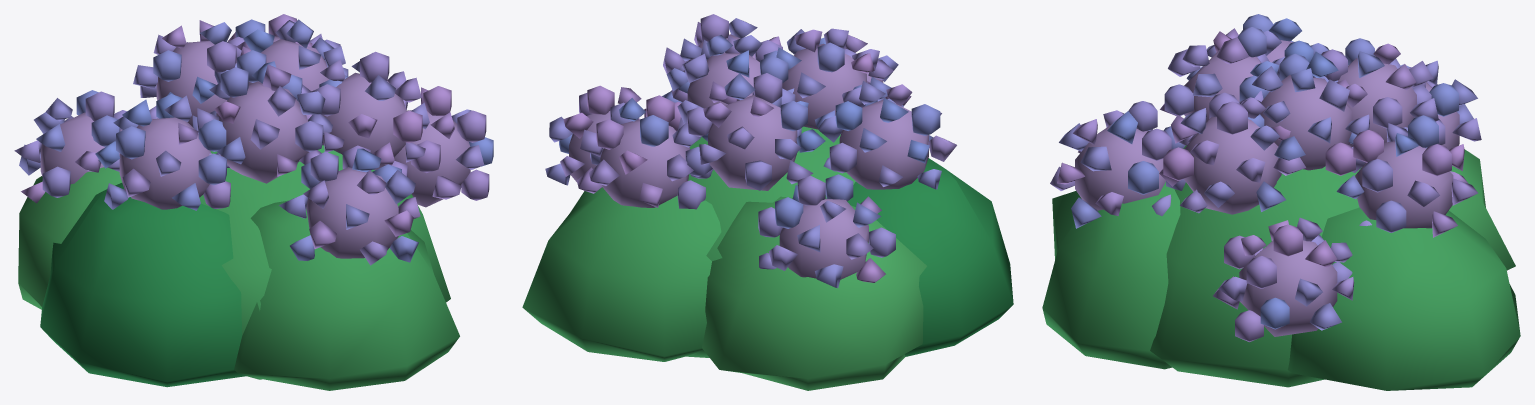
The model's file is flora_bush_hydrangea.gltf.
The picture shows the model from 3 angles, left to right: view 1: azimuth 30°, elevation 25°; view 2: azimuth 150°, elevation 25°; view 3: azimuth 270°, elevation 25°; orthographic projection. The views are drawn at different scales.
Visible parts, largest first — view 1: flora_bush_hydrangea; view 2: flora_bush_hydrangea; view 3: flora_bush_hydrangea.
Boxes of the visible parts, x1=… form: flora_bush_hydrangea: x1=14, y1=14, x2=493, y2=390; flora_bush_hydrangea: x1=522, y1=14, x2=1013, y2=390; flora_bush_hydrangea: x1=1042, y1=14, x2=1520, y2=390.
Size of what is drawn, in the model's own units: 1.33 by 0.767 by 1.21.
